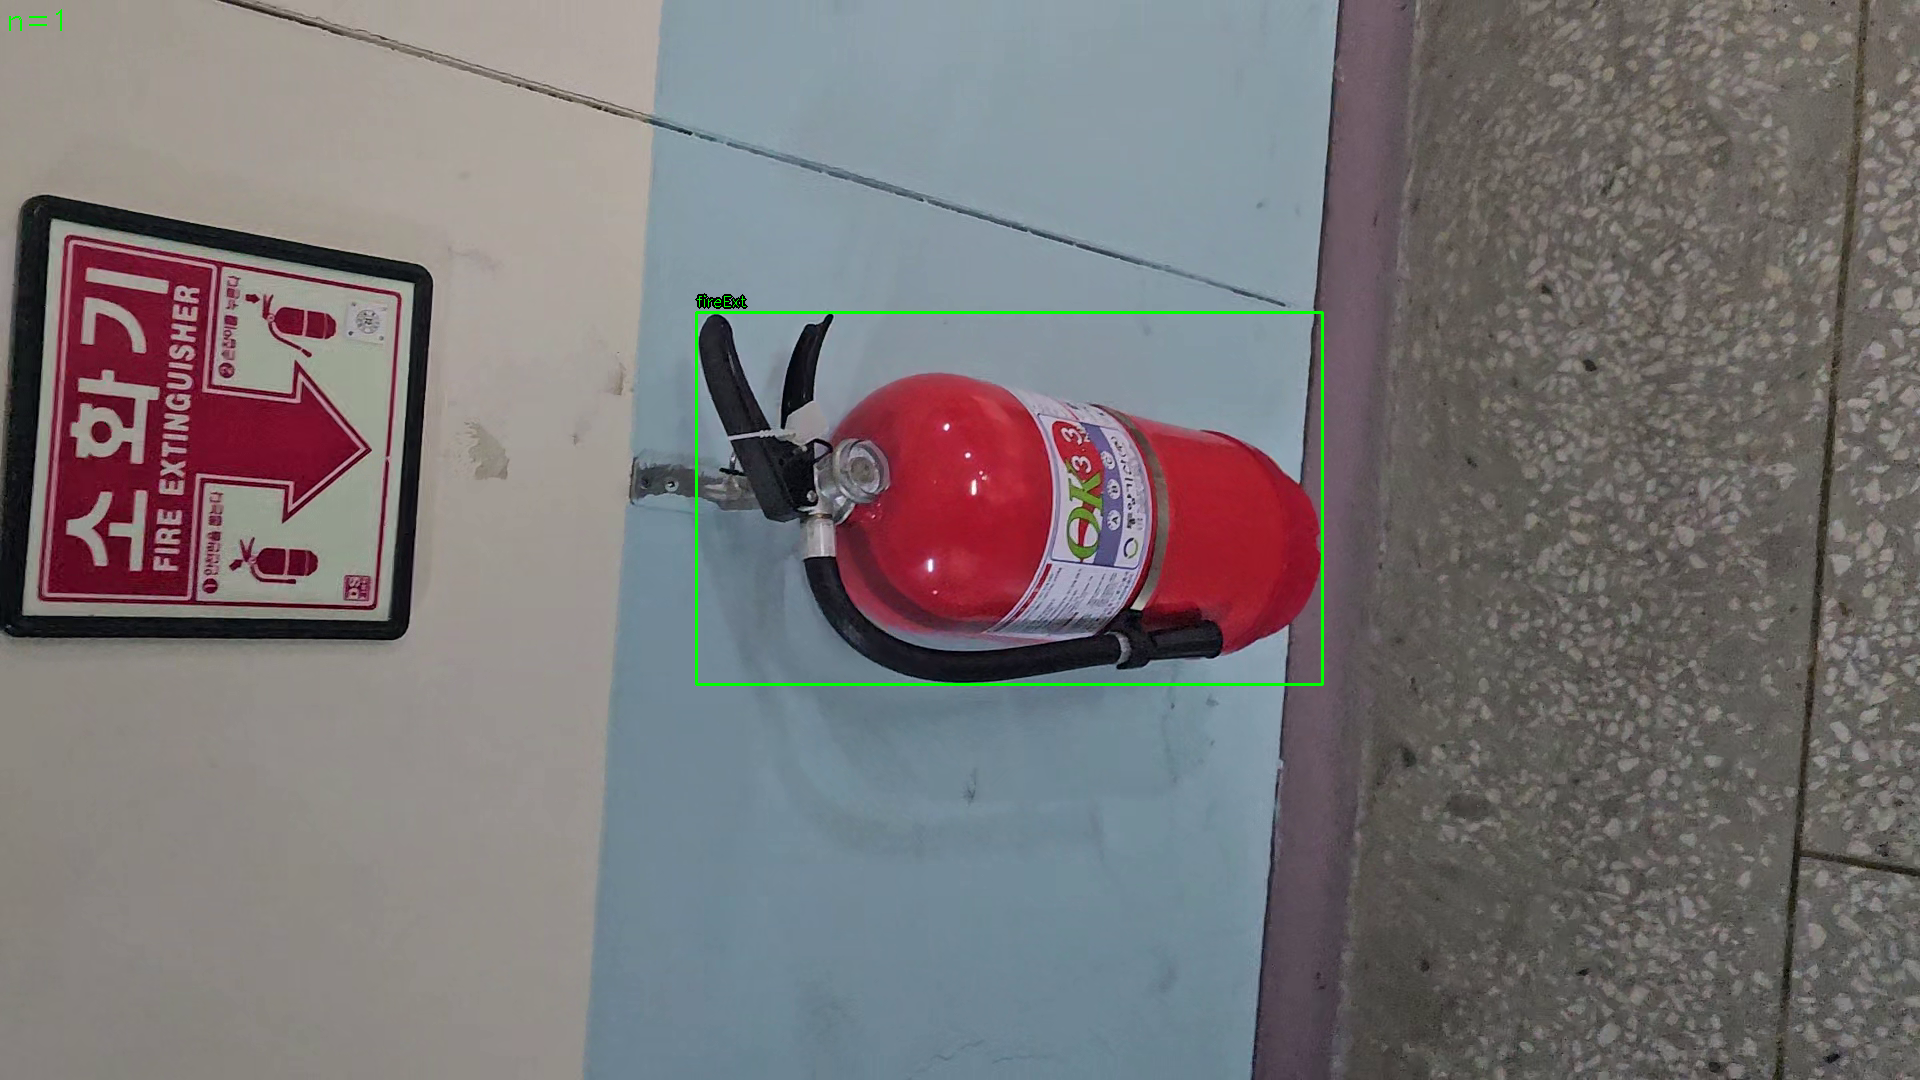lane: (696, 313, 1323, 684)
